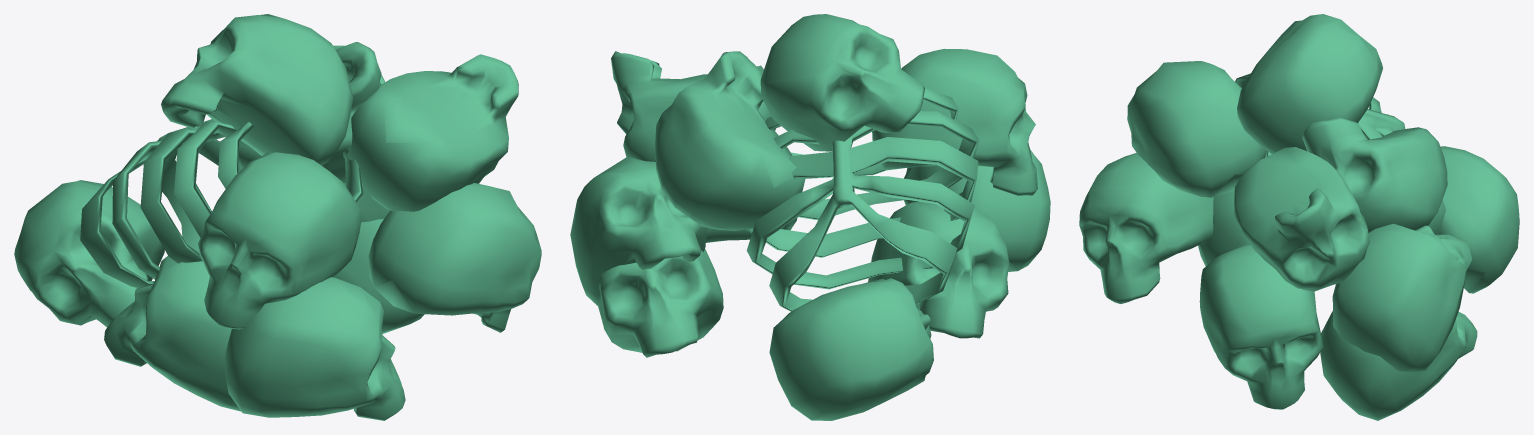
File: Bones_Pile_01_Lod1.fbx
The picture shows the model from 3 angles, left to right: view 1: azimuth 30°, elevation 25°; view 2: azimuth 150°, elevation 25°; view 3: azimuth 270°, elevation 25°; orthographic projection. The views are drawn at different scales.
Visible parts, largest first — view 1: Bones_Pile_01_Lod1; view 2: Bones_Pile_01_Lod1; view 3: Bones_Pile_01_Lod1.
Boxes of the visible parts, x1,y1,x2,y2 form: Bones_Pile_01_Lod1: [14, 14, 541, 420]; Bones_Pile_01_Lod1: [570, 14, 1050, 420]; Bones_Pile_01_Lod1: [1079, 14, 1519, 420].
Size of the model in its own units: 49.12 by 42.45 by 52.14.
